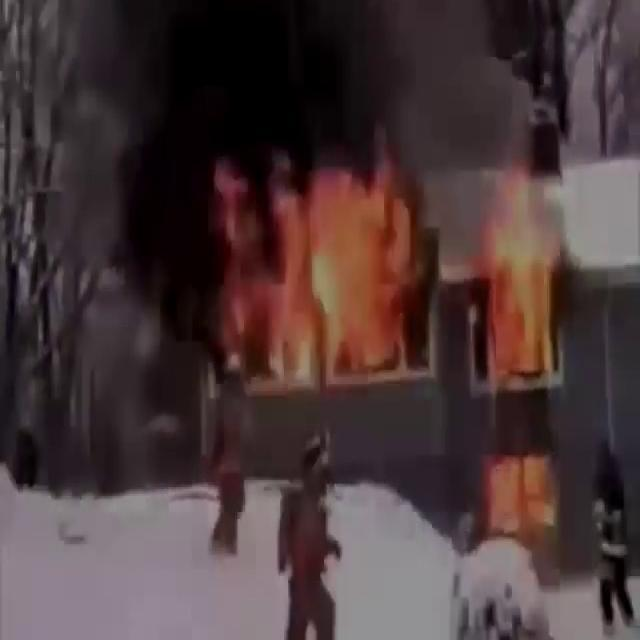Fire: (215, 128, 428, 404), (472, 156, 571, 390), (480, 440, 558, 540)
Smoke: (35, 0, 540, 215)
